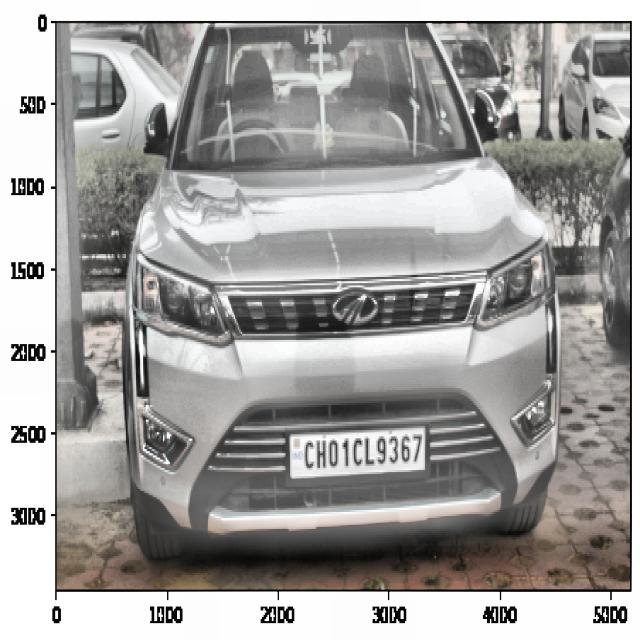license_plate: (299, 427, 428, 475)
